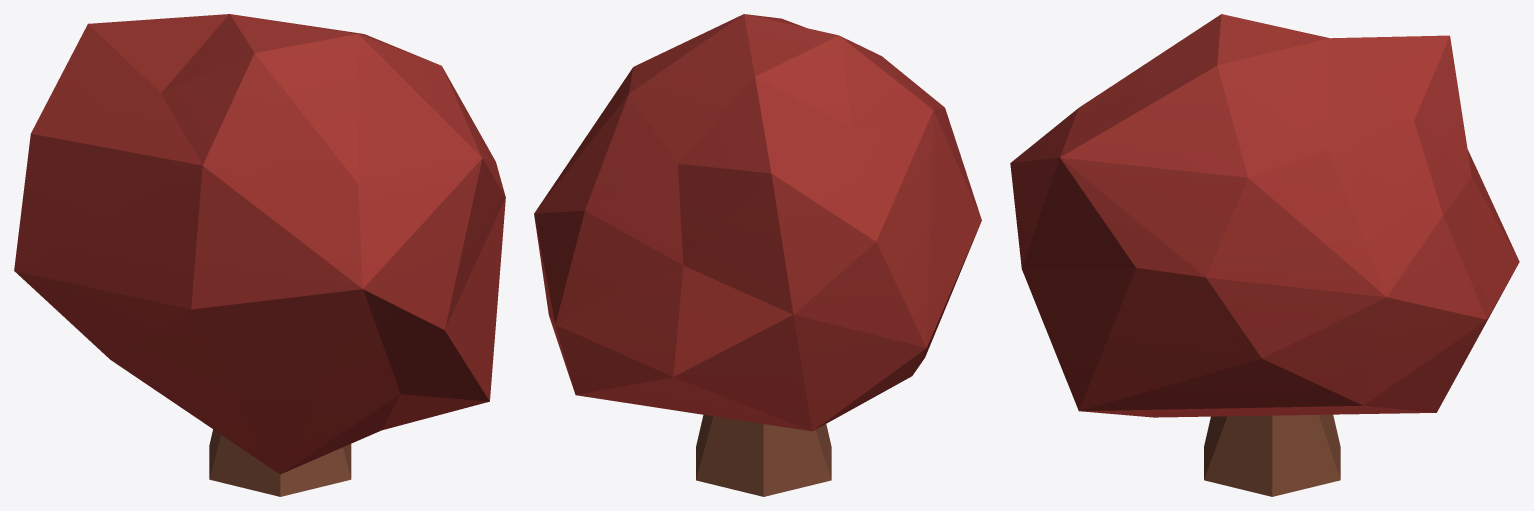
The model's file is Bush_1_gradient_red_vc.fbx.
3 views of the same model, side by side, from view 1: azimuth 30°, elevation 25°; view 2: azimuth 150°, elevation 25°; view 3: azimuth 270°, elevation 25° (orthographic). The views are drawn at different scales.
Parts seen in each view (by area): view 1: Bush_1_gradient_red_vc; view 2: Bush_1_gradient_red_vc; view 3: Bush_1_gradient_red_vc.
Part boxes in pixels (x1=…): Bush_1_gradient_red_vc: x1=14, y1=14, x2=505, y2=496; Bush_1_gradient_red_vc: x1=534, y1=14, x2=981, y2=496; Bush_1_gradient_red_vc: x1=1010, y1=14, x2=1519, y2=496.
Size of the model in its own units: 40.88 by 42.19 by 45.82.
